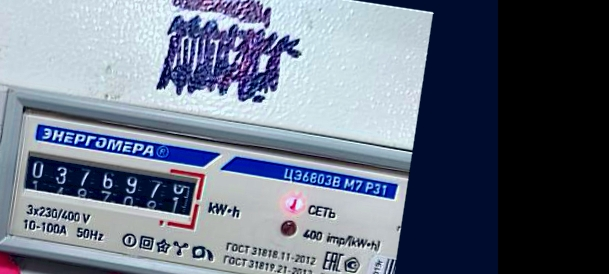0: (30, 158, 45, 180)
1: (168, 194, 182, 214)
3: (53, 164, 69, 186)
6: (100, 168, 116, 191)
7: (76, 165, 92, 188), (147, 177, 162, 201)
9: (123, 173, 138, 196)
screen: (13, 142, 210, 232)
